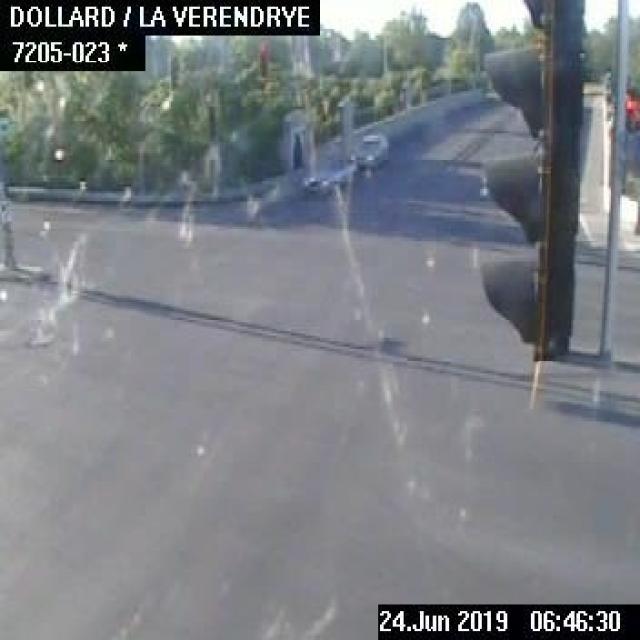vehicle: (300, 161, 353, 198), (351, 130, 386, 168)
